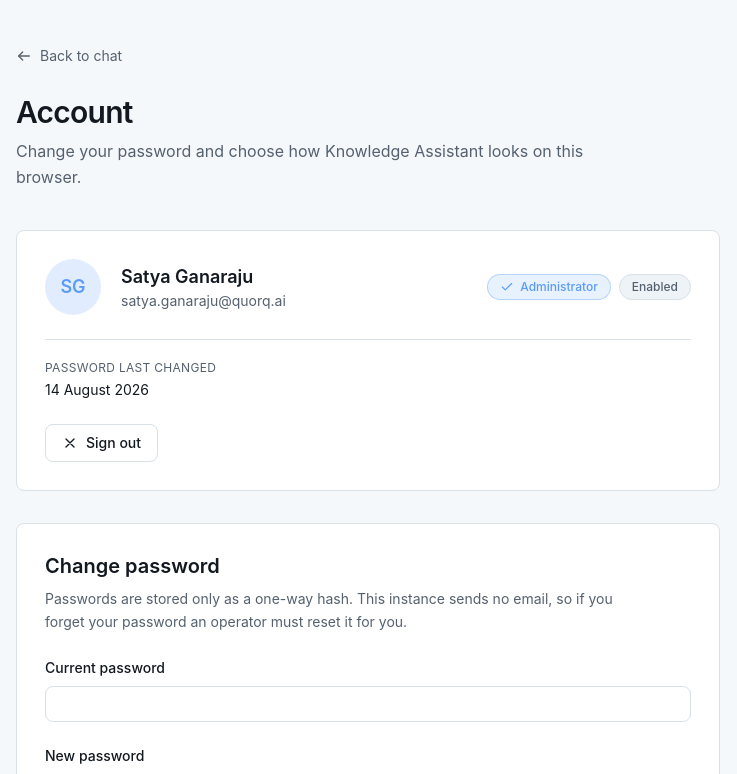
Account › AC-014: submitting posts to /api/auth/change-password and renders the server's confirmation
This screenshot has width=737, height=774.
Check: the text "Satya Ganaraju" is shown, box [121, 266, 253, 287]
In the password field labelled "Current password": (368, 704) [45, 686, 691, 722], type "old-password-123"
(page scrolled)
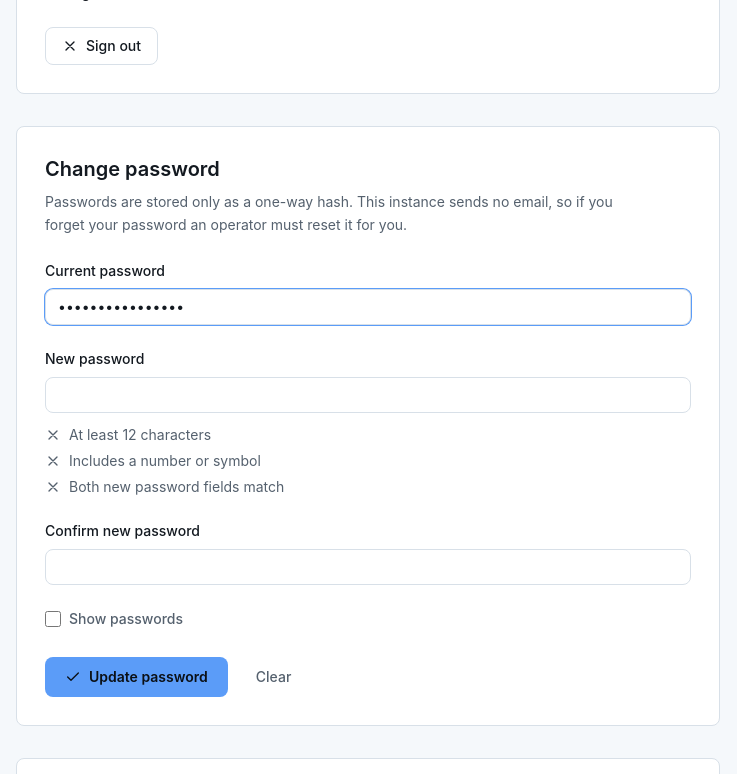
In the password field labelled "New password": (368, 394) [45, 376, 691, 412], type "new-password-456789"
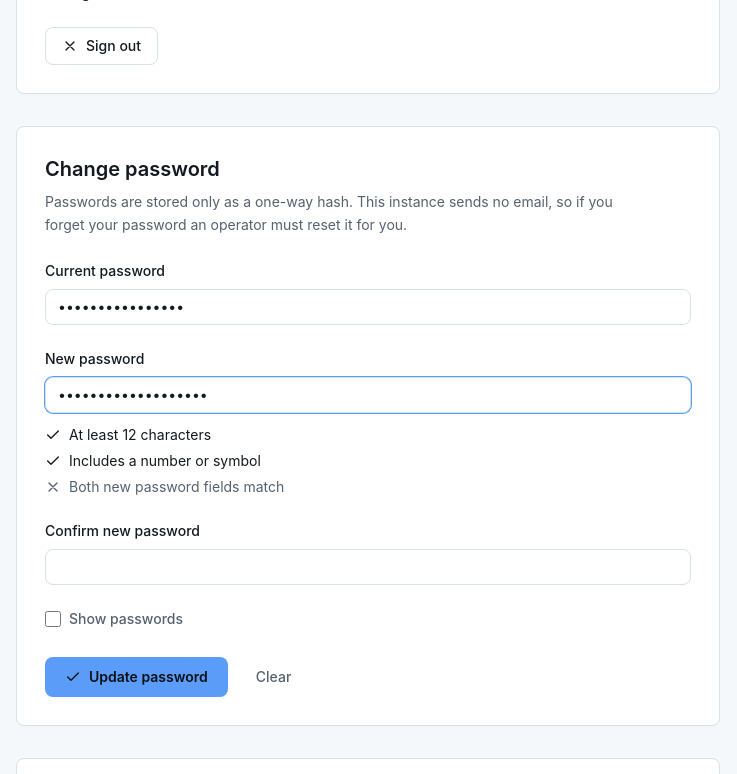
In the password field labelled "Confirm new password": (368, 566) [45, 548, 691, 584], type "new-password-456789"
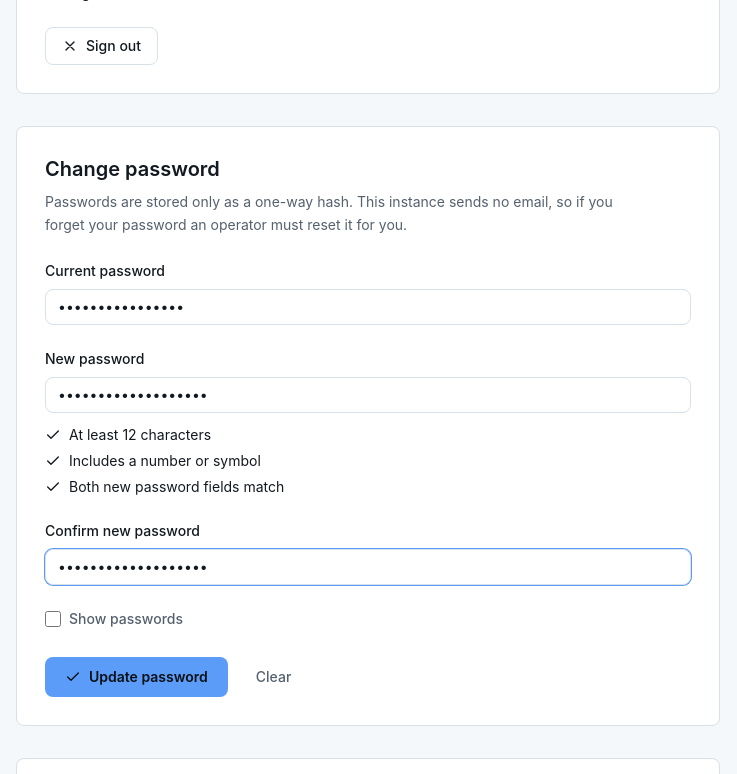
Click the button "Update password": (136, 676) [45, 656, 228, 696]
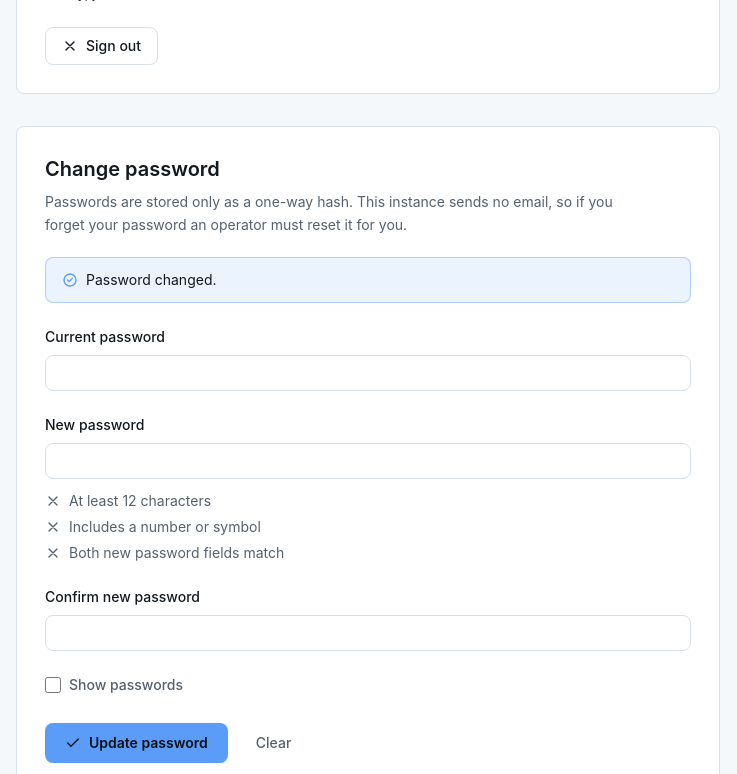
Check: the text "Password changed." is shown, box [86, 270, 216, 290]
